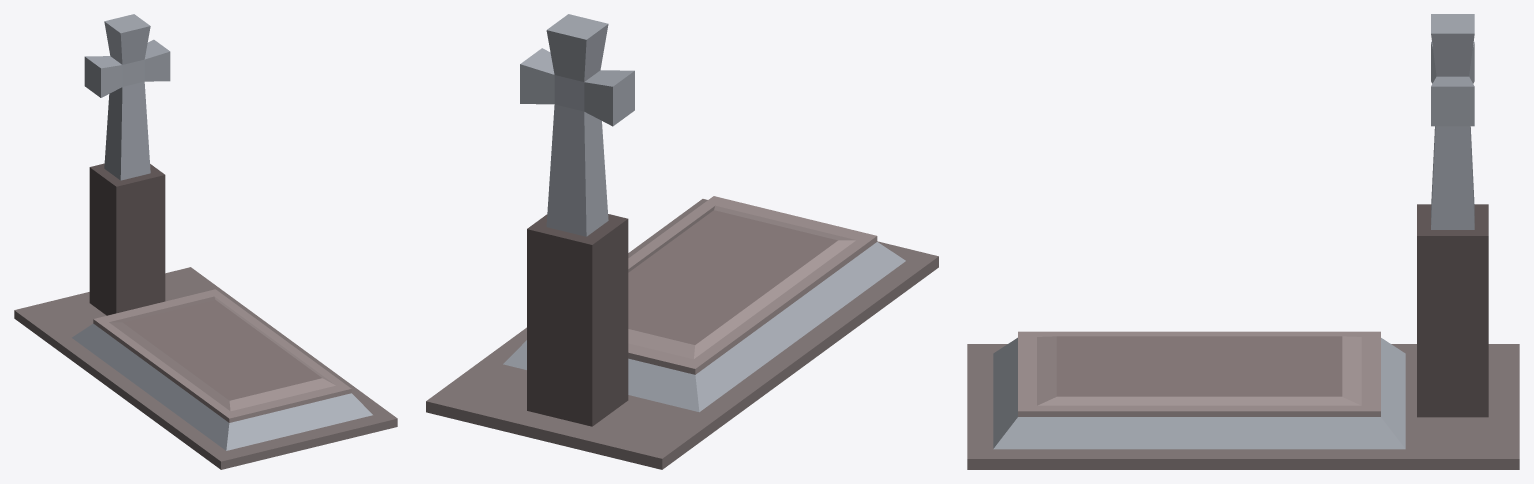
File: HWN20_Grave_22.glb
The picture shows the model from 3 angles, left to right: view 1: azimuth 30°, elevation 25°; view 2: azimuth 150°, elevation 25°; view 3: azimuth 270°, elevation 25°; orthographic projection. The views are drawn at different scales.
Visible parts, largest first — view 1: HWN20_Grave_22; view 2: HWN20_Grave_22; view 3: HWN20_Grave_22.
Boxes of the visible parts, bbox=[...] form: HWN20_Grave_22: bbox=[14, 14, 397, 469]; HWN20_Grave_22: bbox=[426, 14, 938, 469]; HWN20_Grave_22: bbox=[967, 14, 1519, 469].
Size of what is drawn, in the model's own units: 1.11 by 1.75 by 2.25.
1 material, 1 textured.
